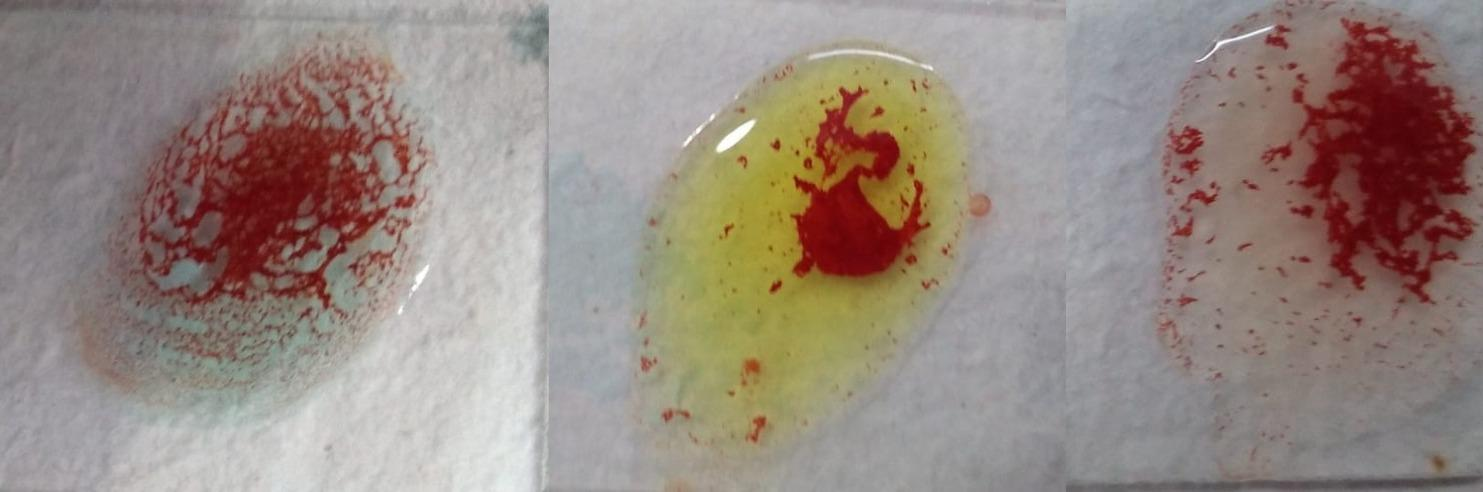A: (79, 31, 429, 427)
B: (634, 47, 966, 447)
D: (1157, 6, 1483, 440)
